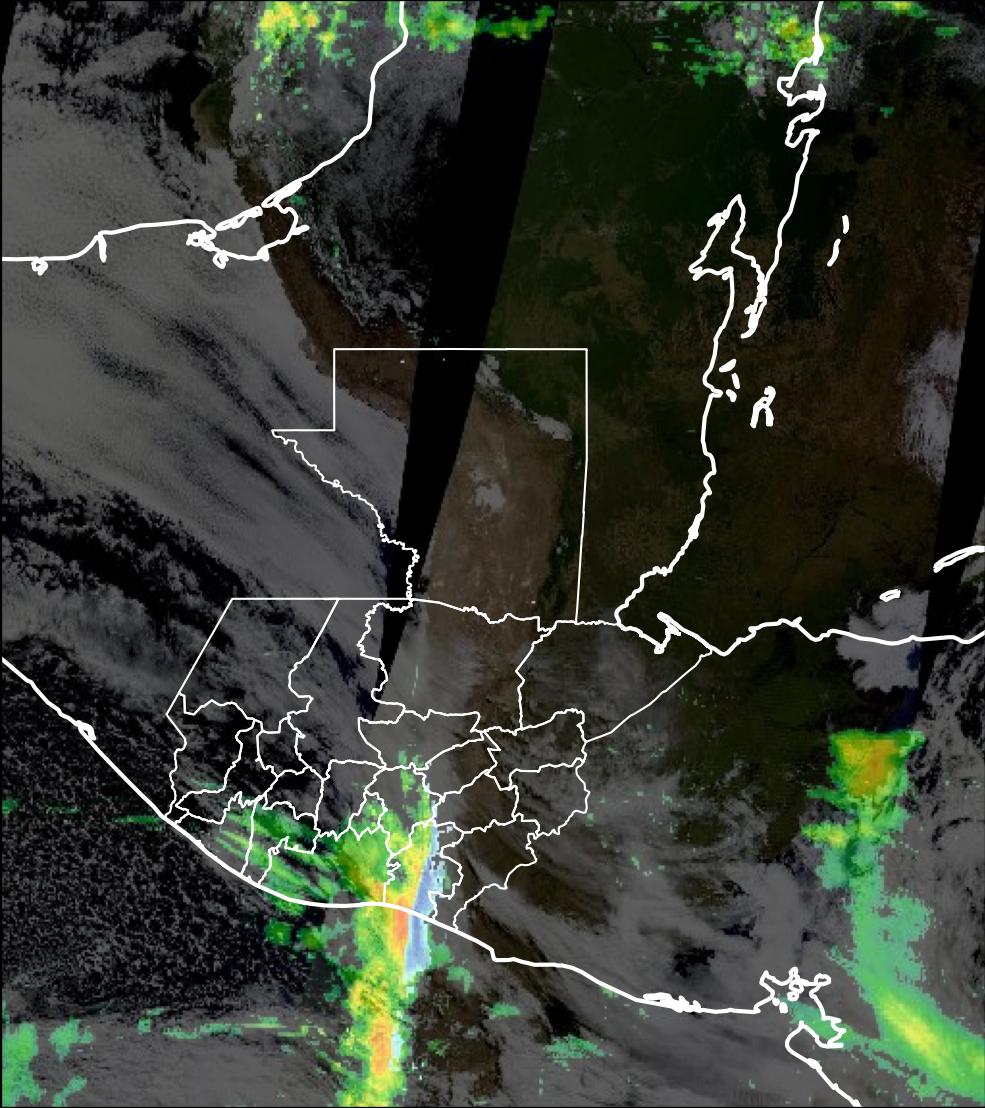precipitacion: (831, 737, 924, 812)
